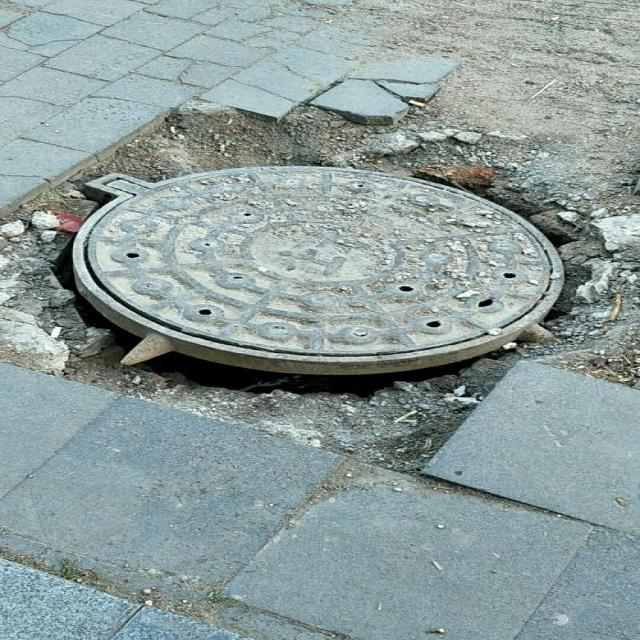manhole-cover: (46, 163, 604, 401)
